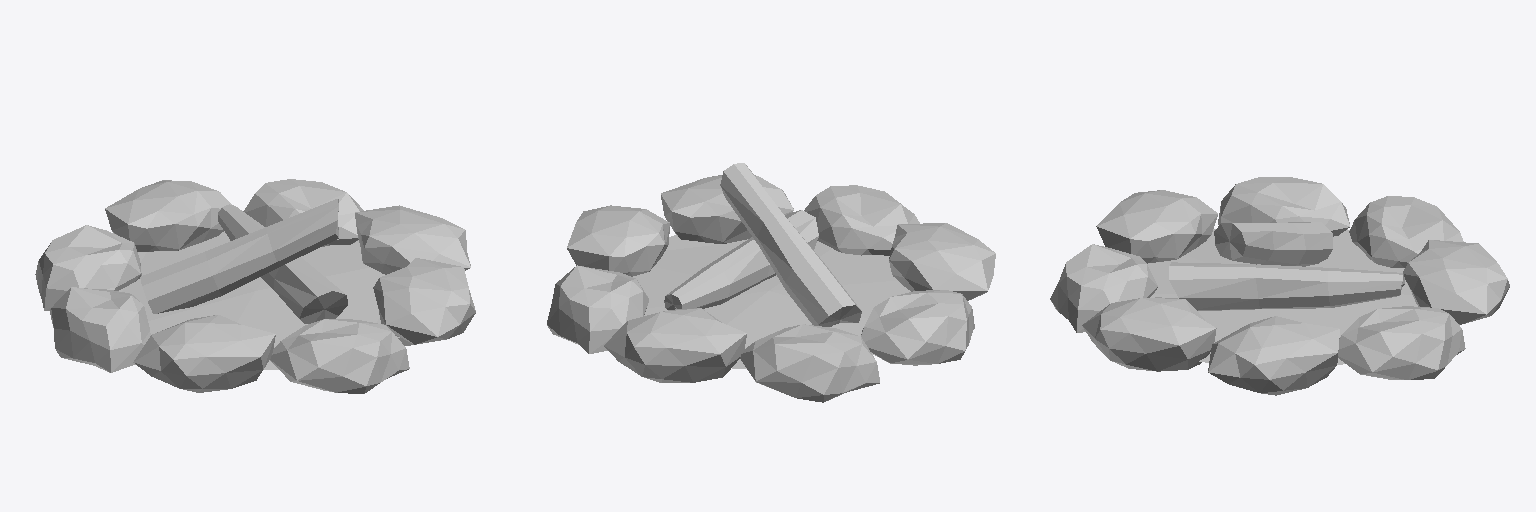
File: firepit.obj
3 views of the same model, side by side, from view 1: azimuth 30°, elevation 25°; view 2: azimuth 150°, elevation 25°; view 3: azimuth 270°, elevation 25° (orthographic).
Parts seen in each view (by area): view 1: Icosphere.001_Icosphere.002; view 2: Icosphere.001_Icosphere.002; view 3: Icosphere.001_Icosphere.002.
Boxes of the visible parts, box(x1,y1,x2,y2) form: Icosphere.001_Icosphere.002: box(35, 179, 475, 393); Icosphere.001_Icosphere.002: box(547, 163, 995, 402); Icosphere.001_Icosphere.002: box(1050, 177, 1509, 395).
Size of the model in its own units: 10.46 by 3.04 by 10.46.